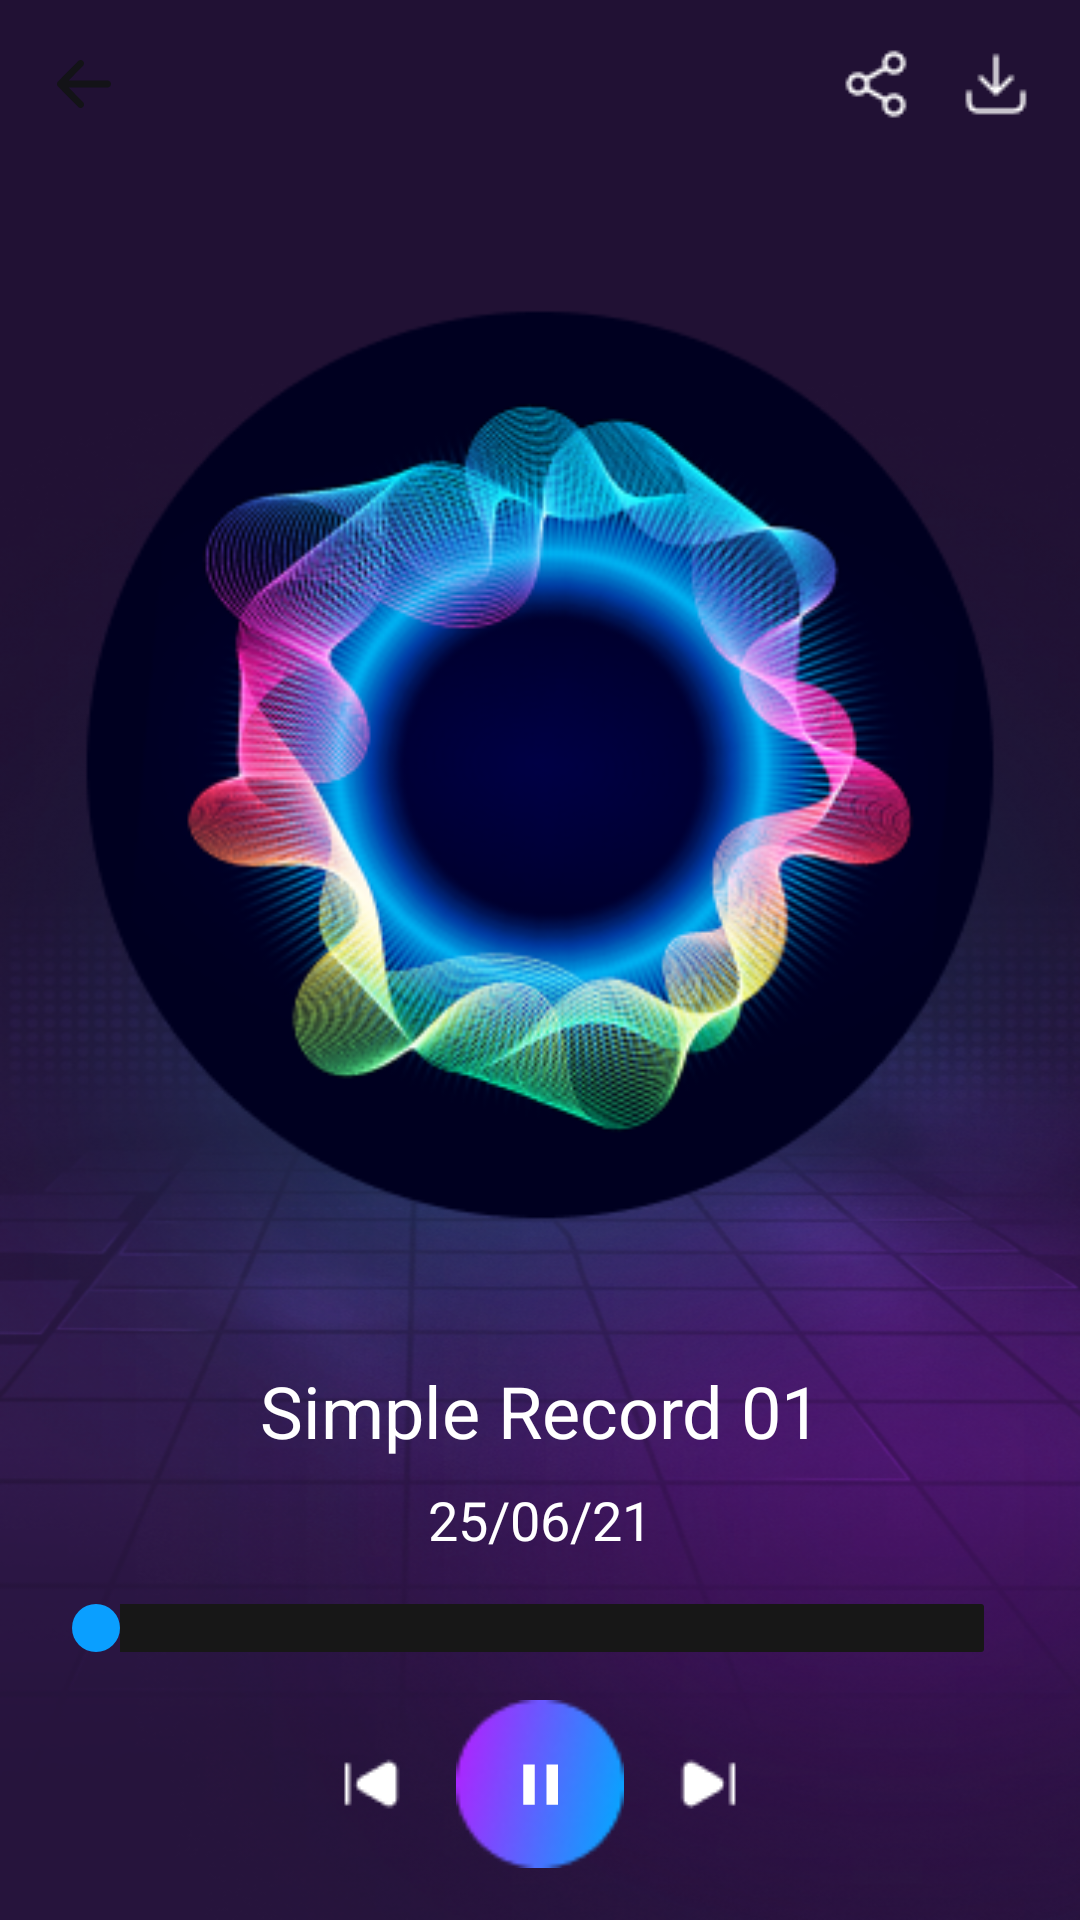

Icon click points for this 1080*1920 phone screenshot, format [x,y]:
back: [84,84]
download: [996,84]
next record detail: [708,1784]
pause: [540,1784]
previous record detail: [371,1783]
share: [876,84]
